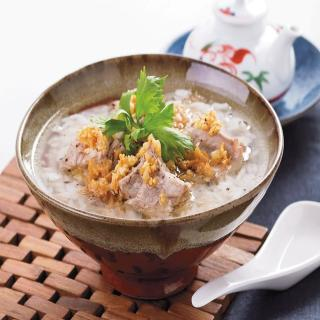boiled_rice: (30, 78, 272, 220)
carbs: (41, 176, 110, 217), (43, 91, 114, 130), (174, 80, 250, 112), (30, 130, 66, 191), (244, 118, 273, 190), (194, 181, 245, 215)
meat: (117, 146, 190, 218), (190, 113, 246, 181), (64, 133, 109, 174)
veg: (109, 67, 190, 150)
